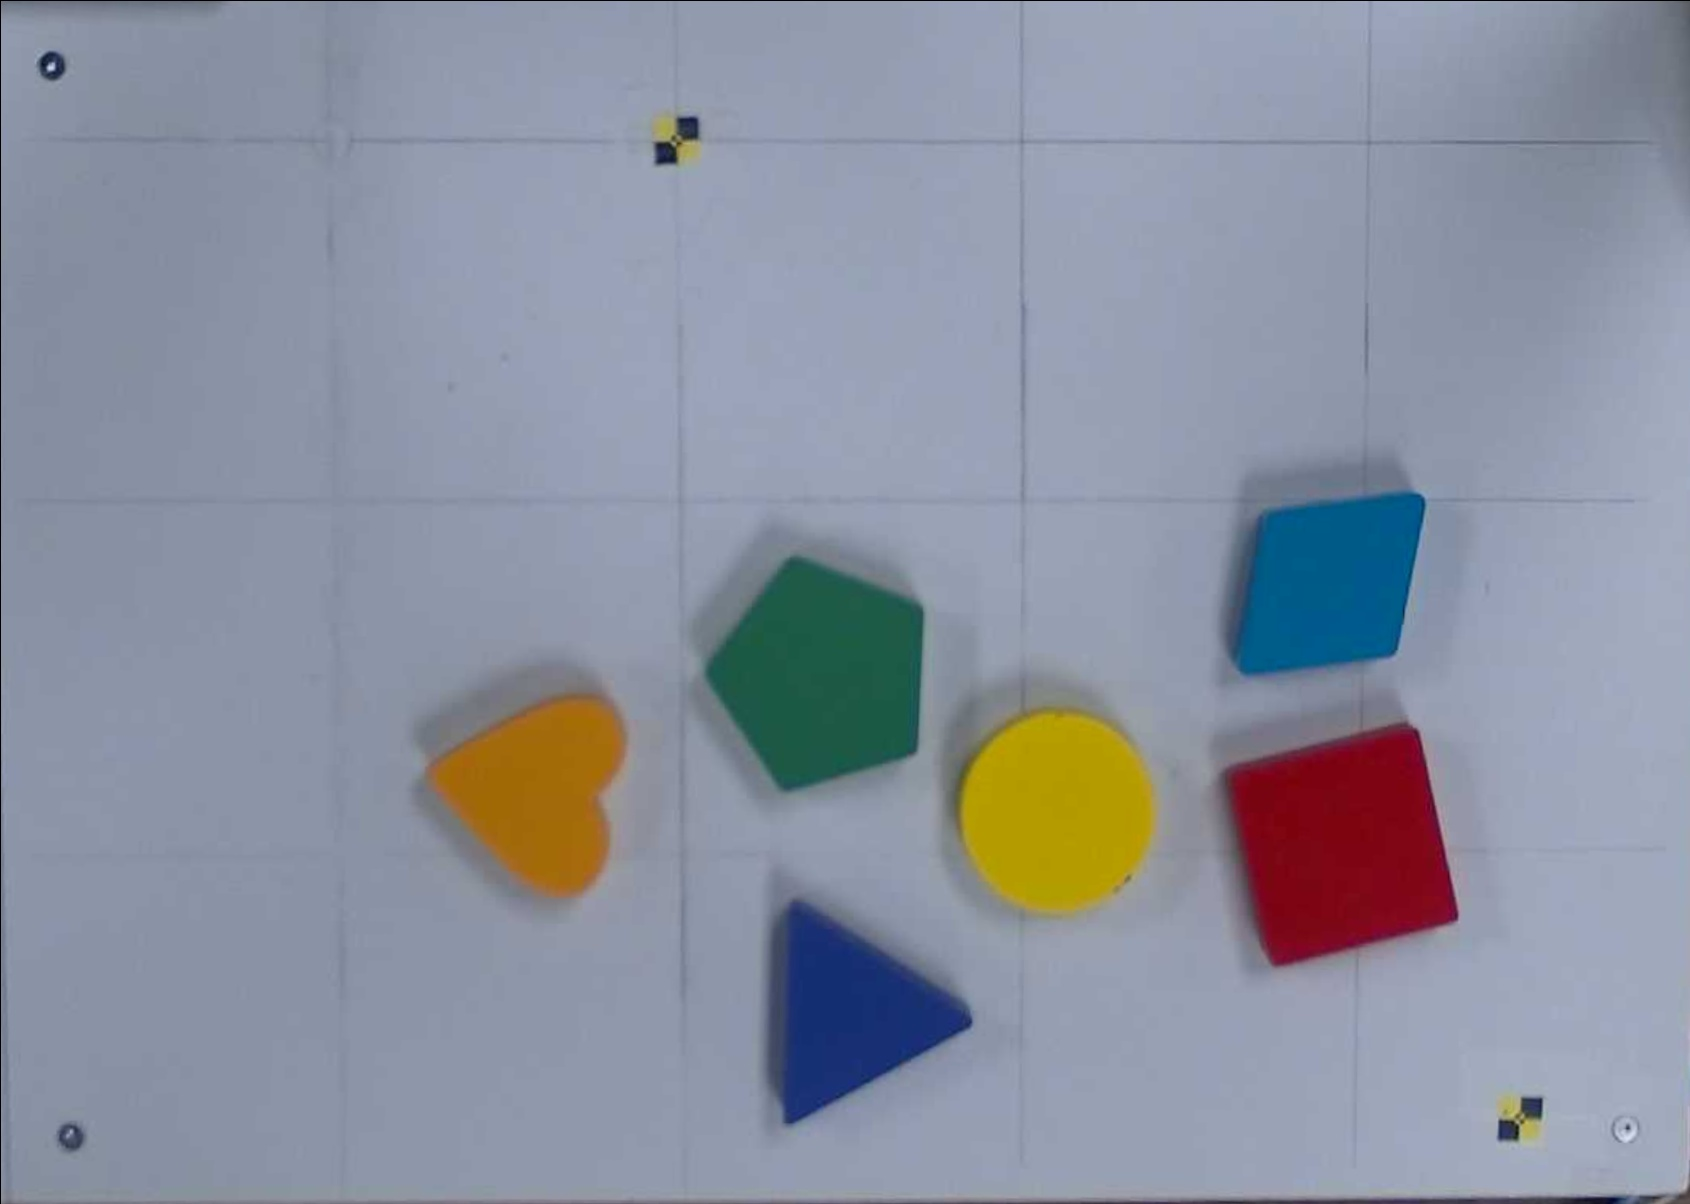Circle: (959, 710, 1152, 916)
Heart: (425, 697, 627, 900)
Parallelogram: (1235, 493, 1425, 675)
Pentagon: (708, 558, 925, 794)
Square: (1224, 723, 1462, 971)
Triangle: (783, 900, 971, 1125)
